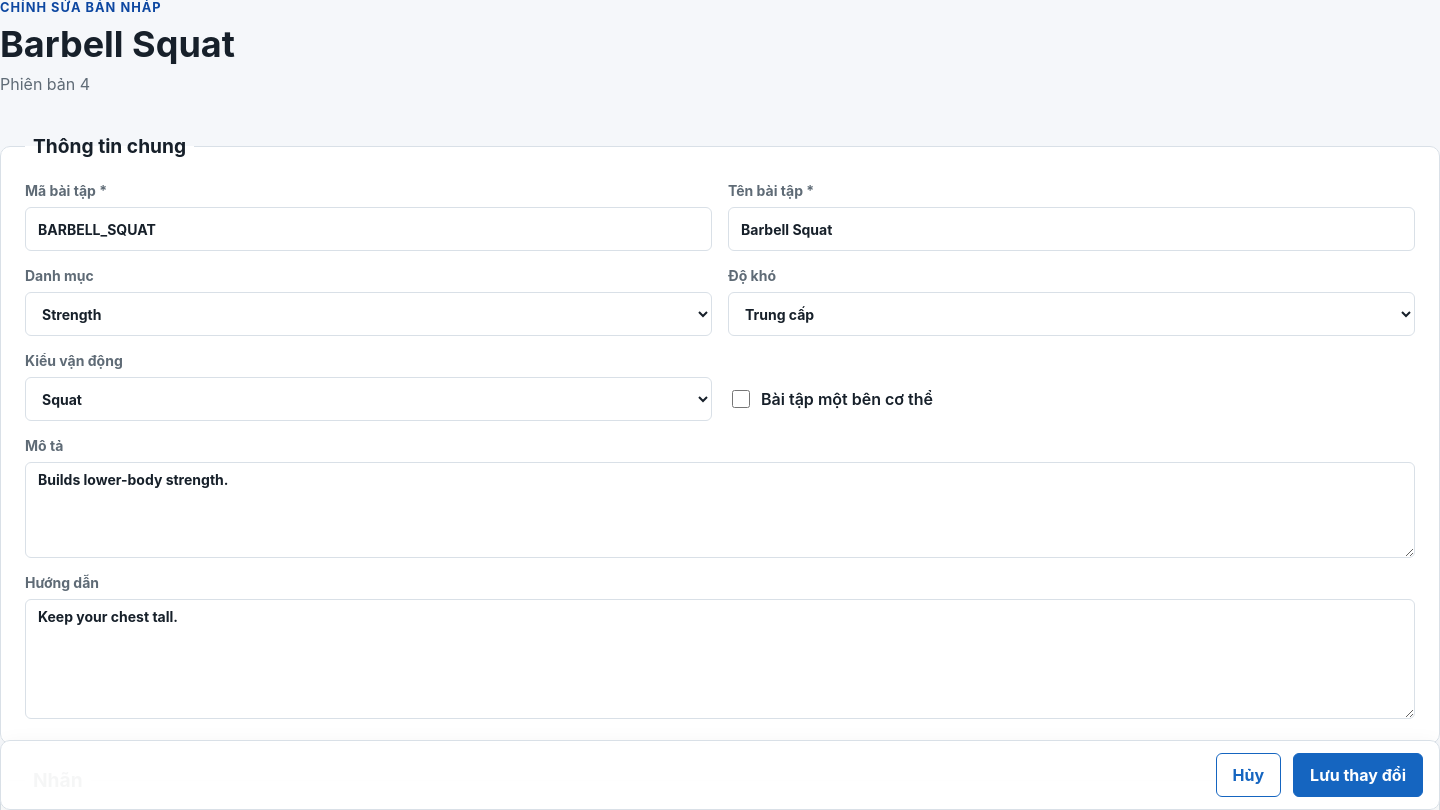
Test: exercise draft create and edit flows › keeps local input and never auto-retries a version conflict
Clear the field labelled "Tên bài tập *" at (1072,229), box left=728, top=207, right=1415, bottom=251
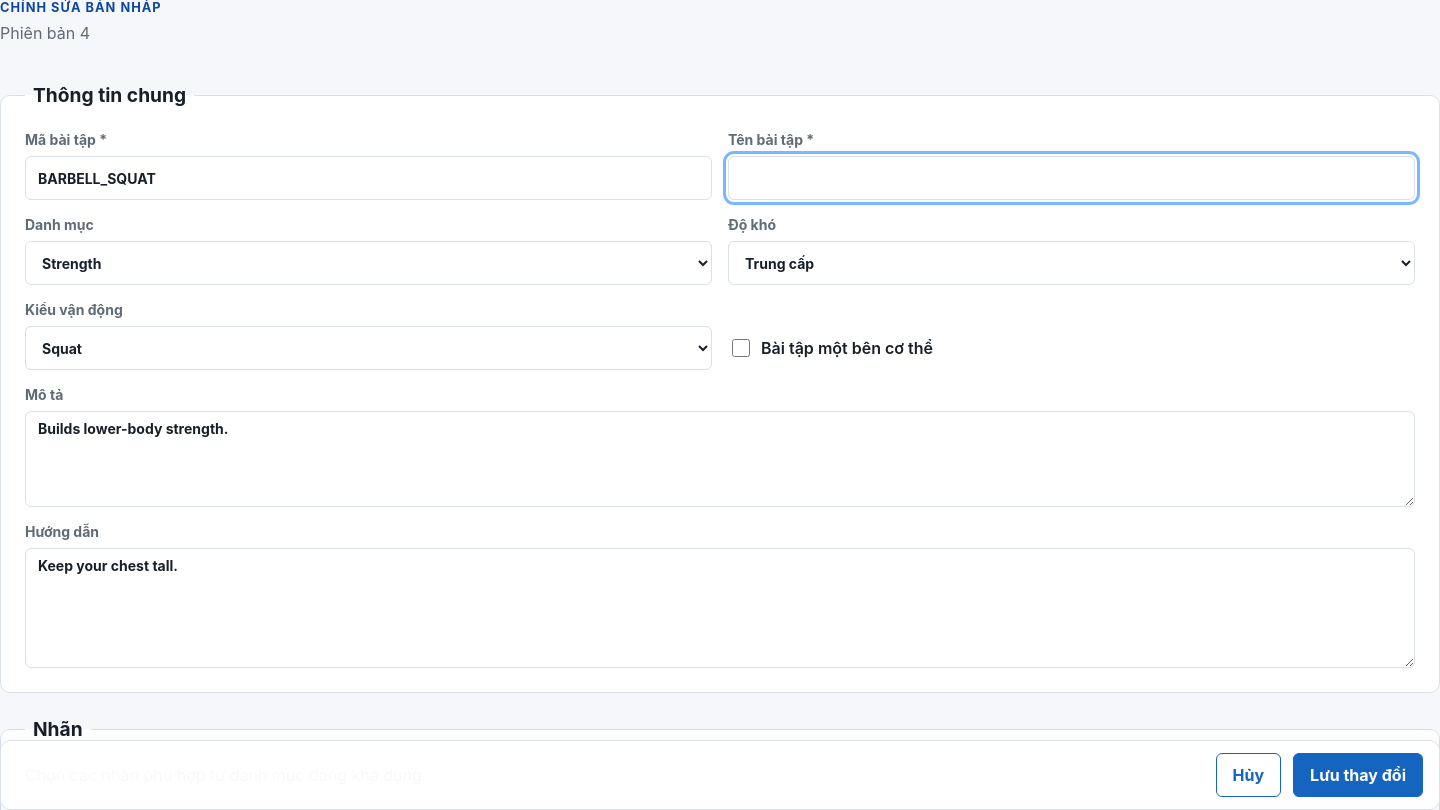
Type "My local edit" into the field labelled "Tên bài tập *" at (1072,178), box left=728, top=156, right=1415, bottom=200
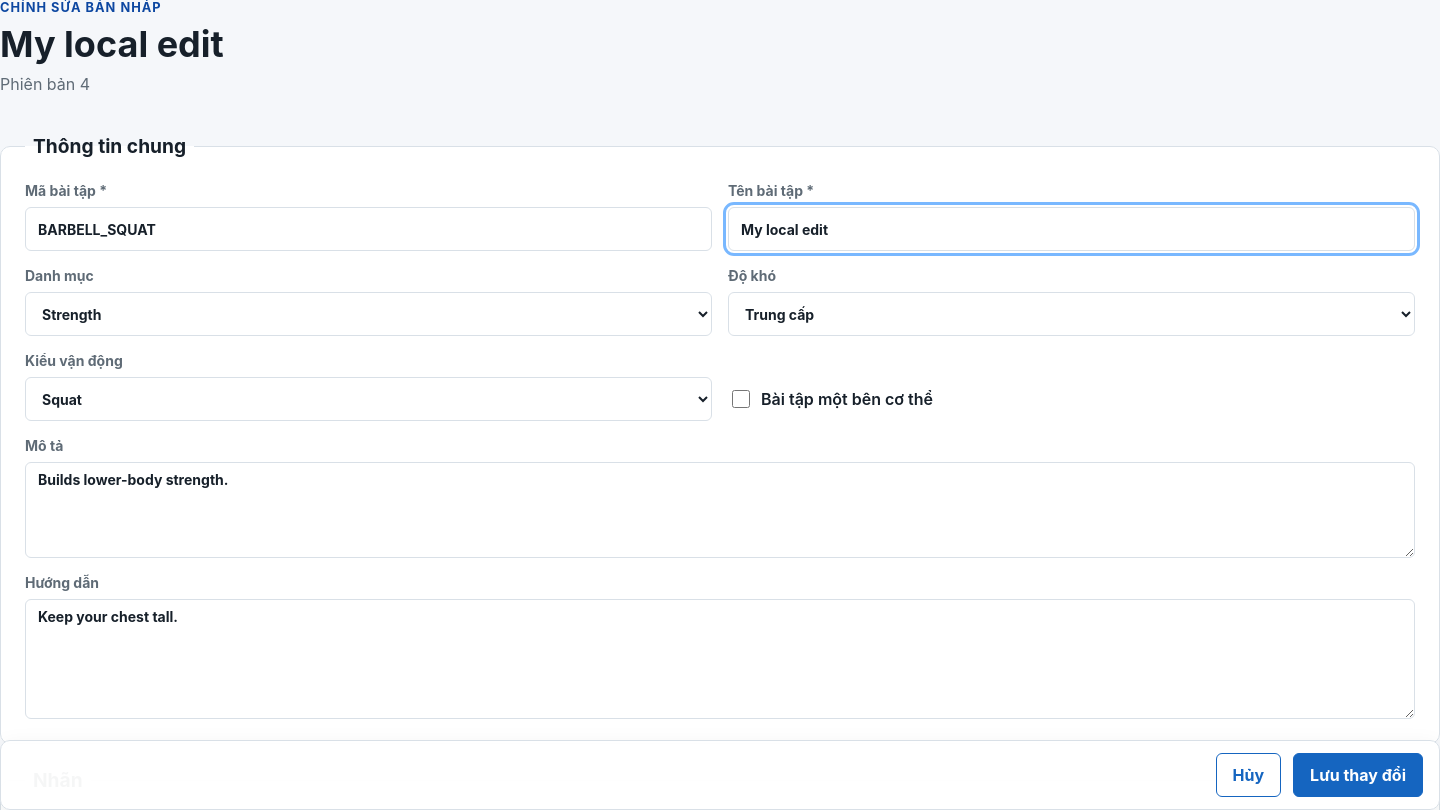
Click the button "Lưu thay đổi" at (1358,775), box left=1293, top=753, right=1423, bottom=797
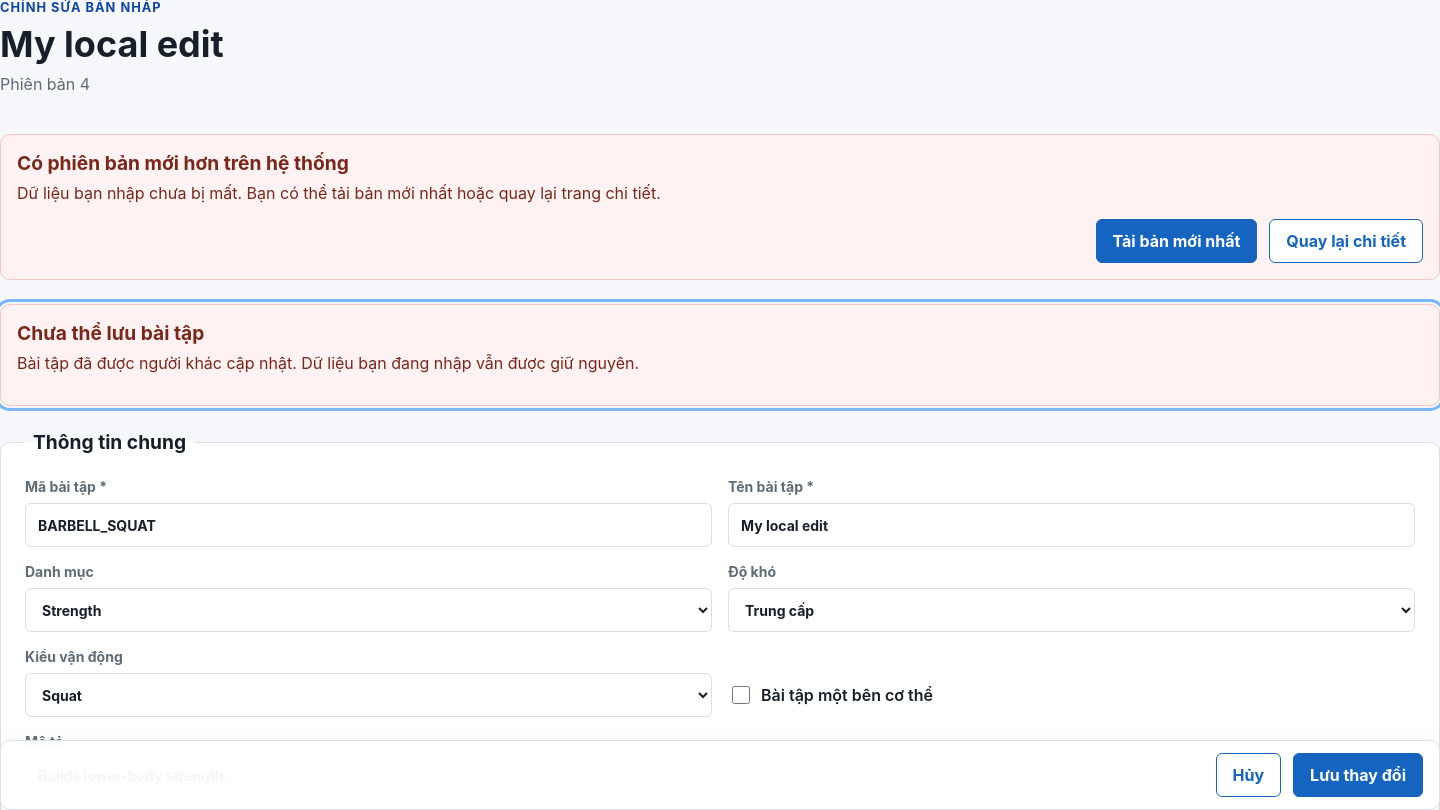
Result: the heading "Có phiên bản mới hơn trên hệ thống" is shown at left=17, top=151, right=349, bottom=175
Click the button "Tải bản mới nhất" at (1176,241), box left=1096, top=219, right=1257, bottom=263
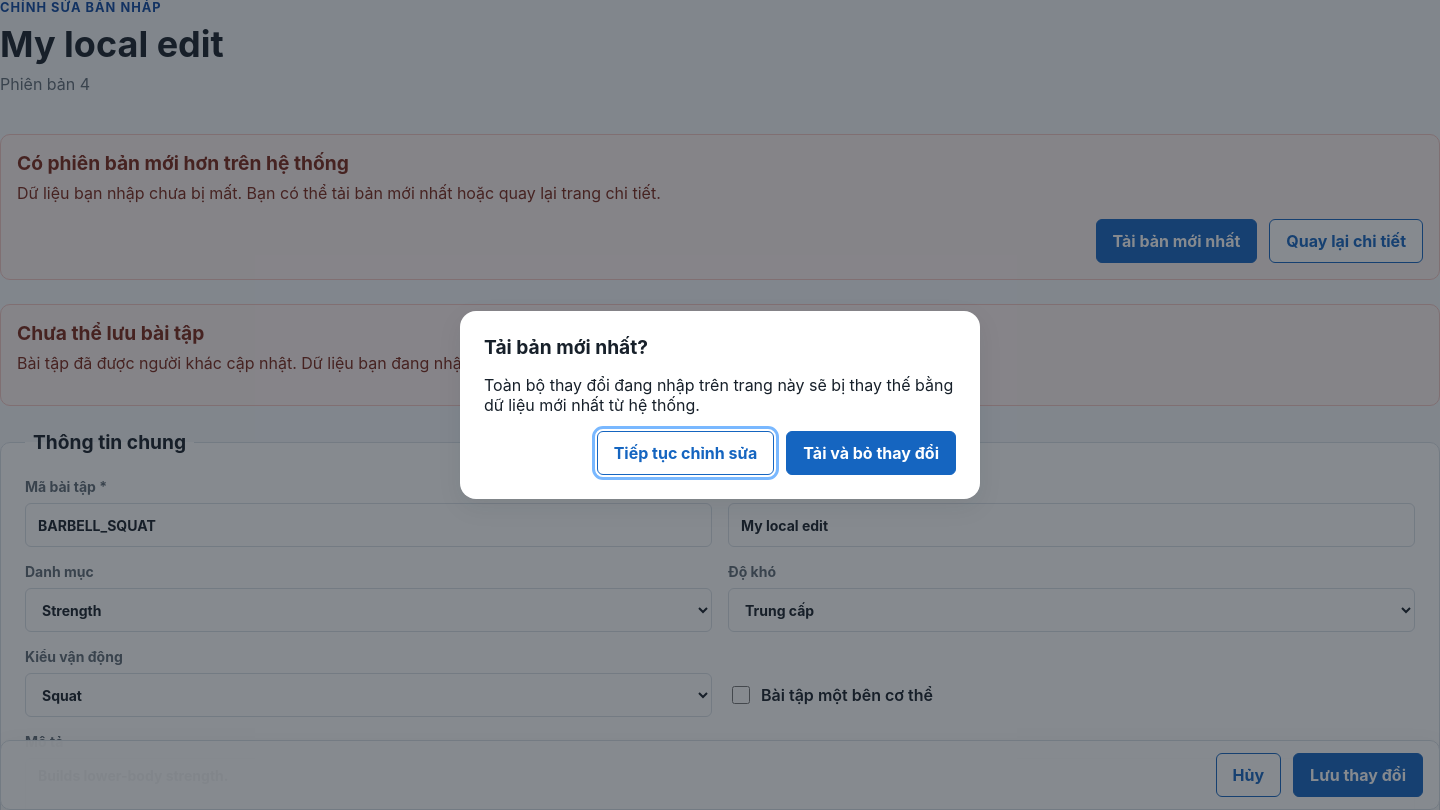
Result: the dialog "Tải bản mới nhất?" is shown at left=460, top=311, right=980, bottom=499
